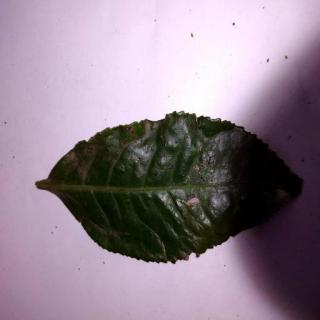Bird Eye Spot: (38, 113, 303, 262)
